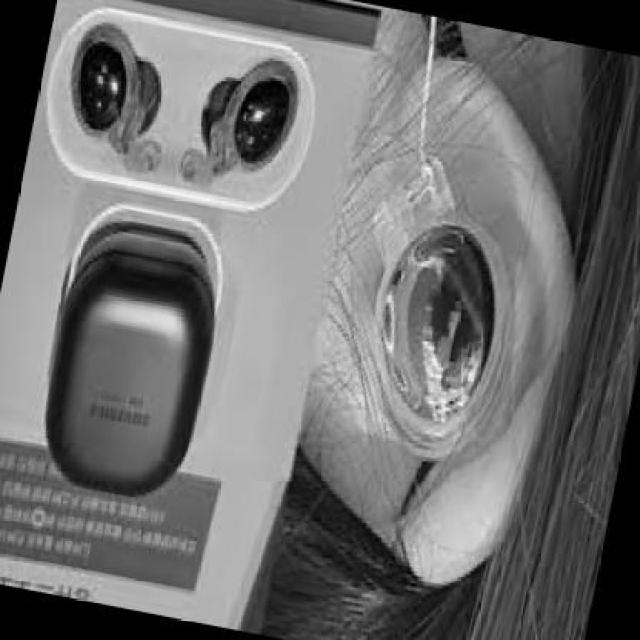earphone: (72, 41, 321, 191), (376, 214, 484, 458)
